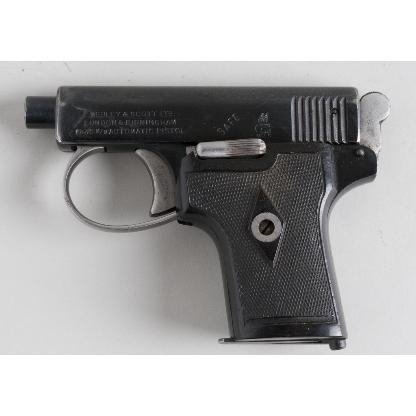gun: (25, 85, 390, 349)
